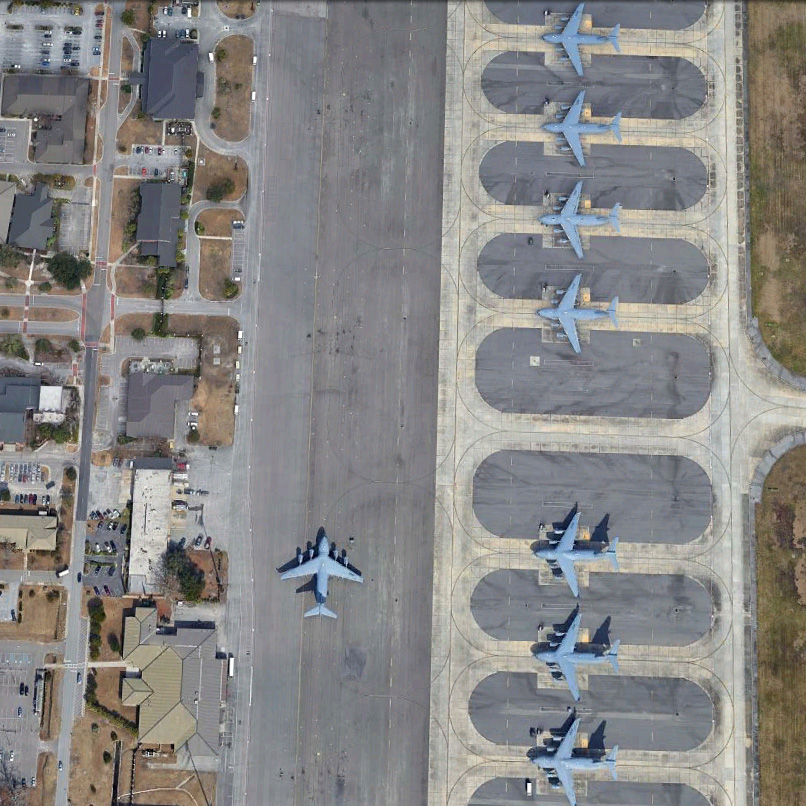A3: (530, 507, 621, 600), (527, 715, 620, 805), (531, 612, 621, 701), (280, 531, 364, 621), (535, 271, 622, 357), (537, 179, 622, 260), (540, 88, 624, 168), (539, 2, 622, 77)
